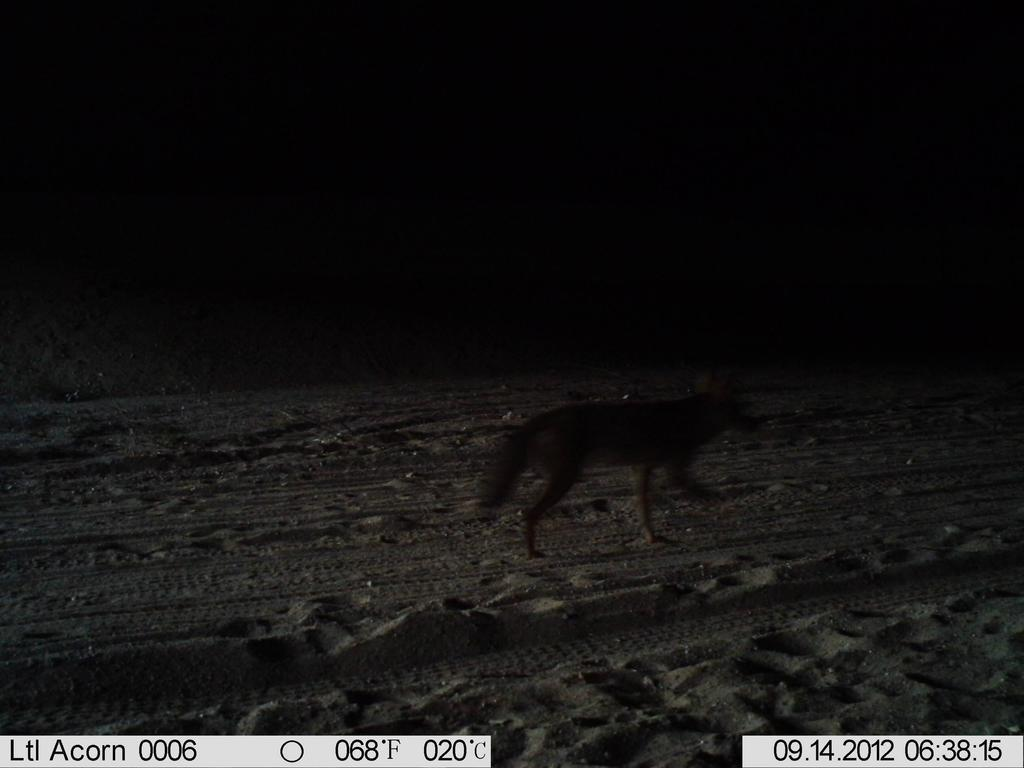coyote: (466, 361, 773, 570)
